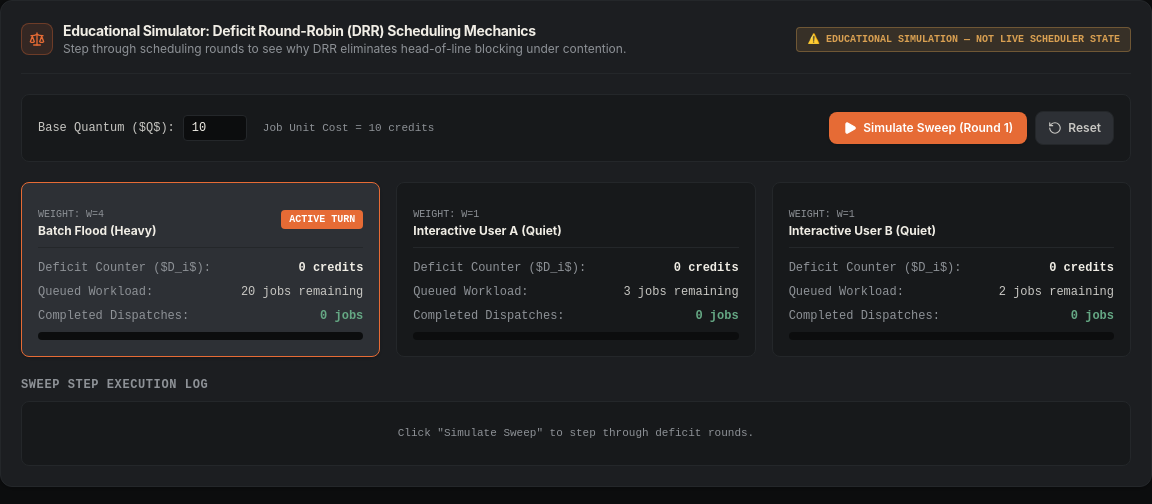
DrrSimulator › resets simulator state back to initial round
Click the button "Simulate Sweep (Round 1)". click: (928, 128)
box: [829,112,1027,144]
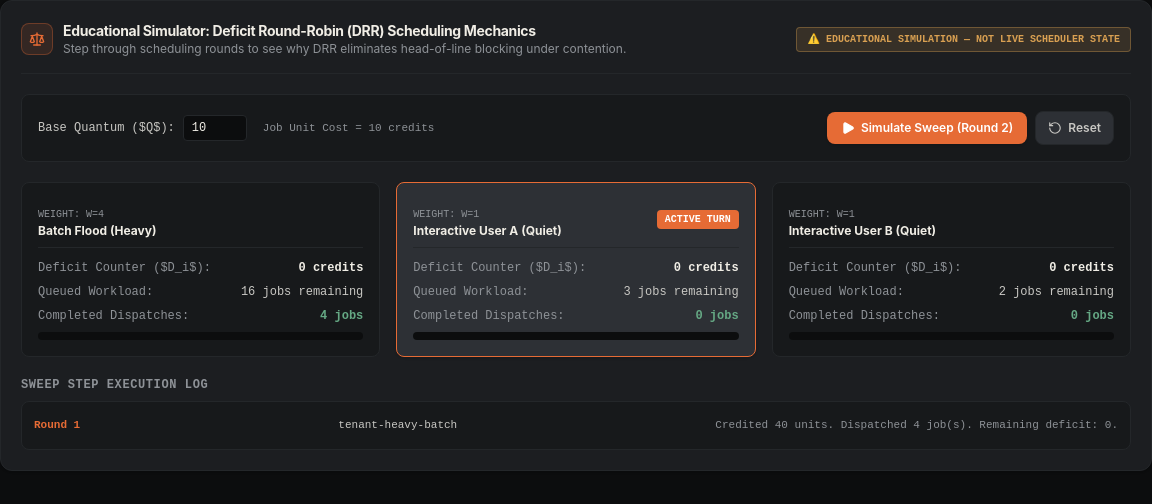
Expected: the button "Simulate Sweep (Round 2)" is shown, [827,112,1027,144]
Click the button "Reset". click: (1075, 128)
box: [1035,111,1114,145]
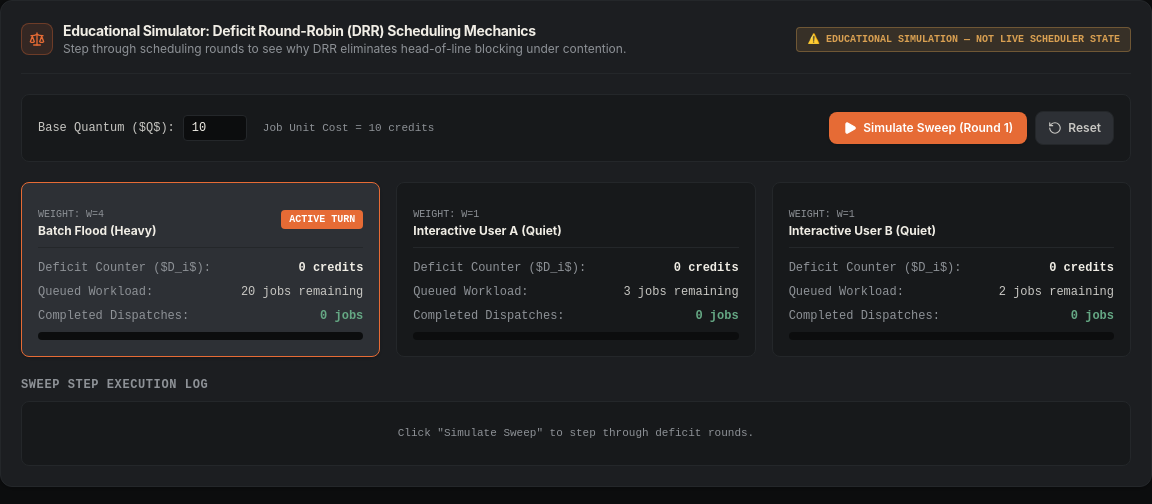
Expected: the button "Simulate Sweep (Round 1)" is shown, [829,112,1027,144]
